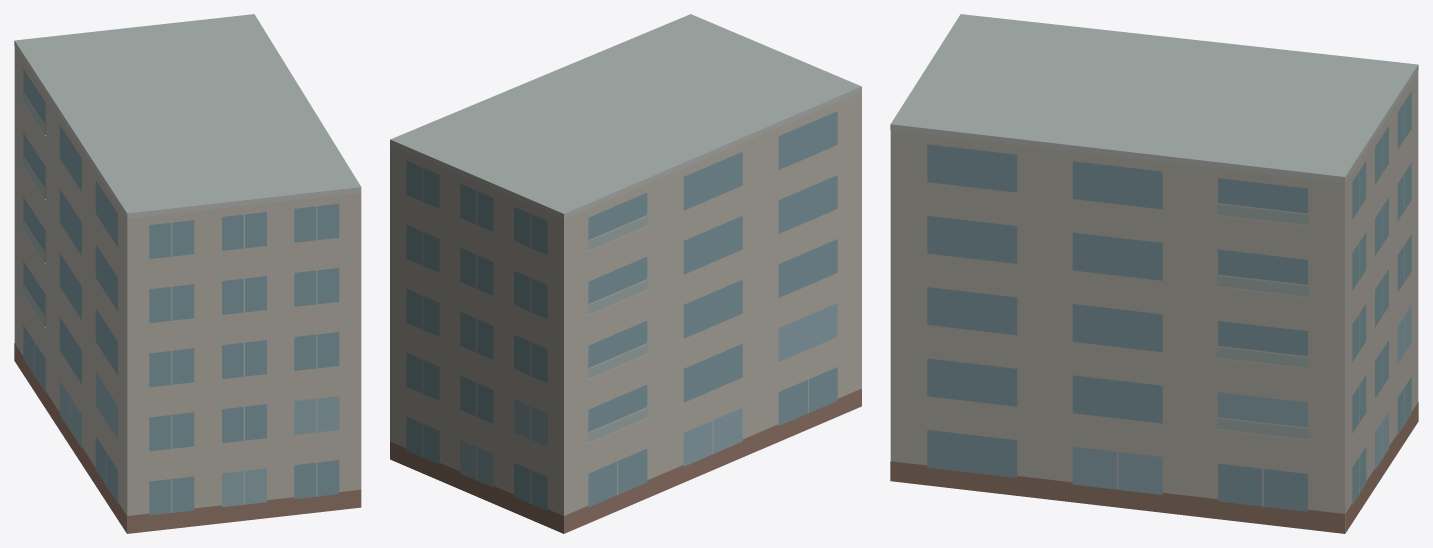
The model's file is survey-upis-32764592.glb.
The picture shows the model from 3 angles, left to right: view 1: azimuth 30°, elevation 25°; view 2: azimuth 150°, elevation 25°; view 3: azimuth 270°, elevation 25°; orthographic projection. The views are drawn at different scales.
Parts seen in each view (by area): view 1: survey-upis-32764592.tmp; view 2: survey-upis-32764592.tmp; view 3: survey-upis-32764592.tmp.
Part boxes in pixels (box(x1,y1,x2,y2)): survey-upis-32764592.tmp: box(14, 14, 361, 533); survey-upis-32764592.tmp: box(390, 14, 861, 533); survey-upis-32764592.tmp: box(890, 14, 1418, 533).
Size of the model in its own units: 14.03 by 14.31 by 19.2.
